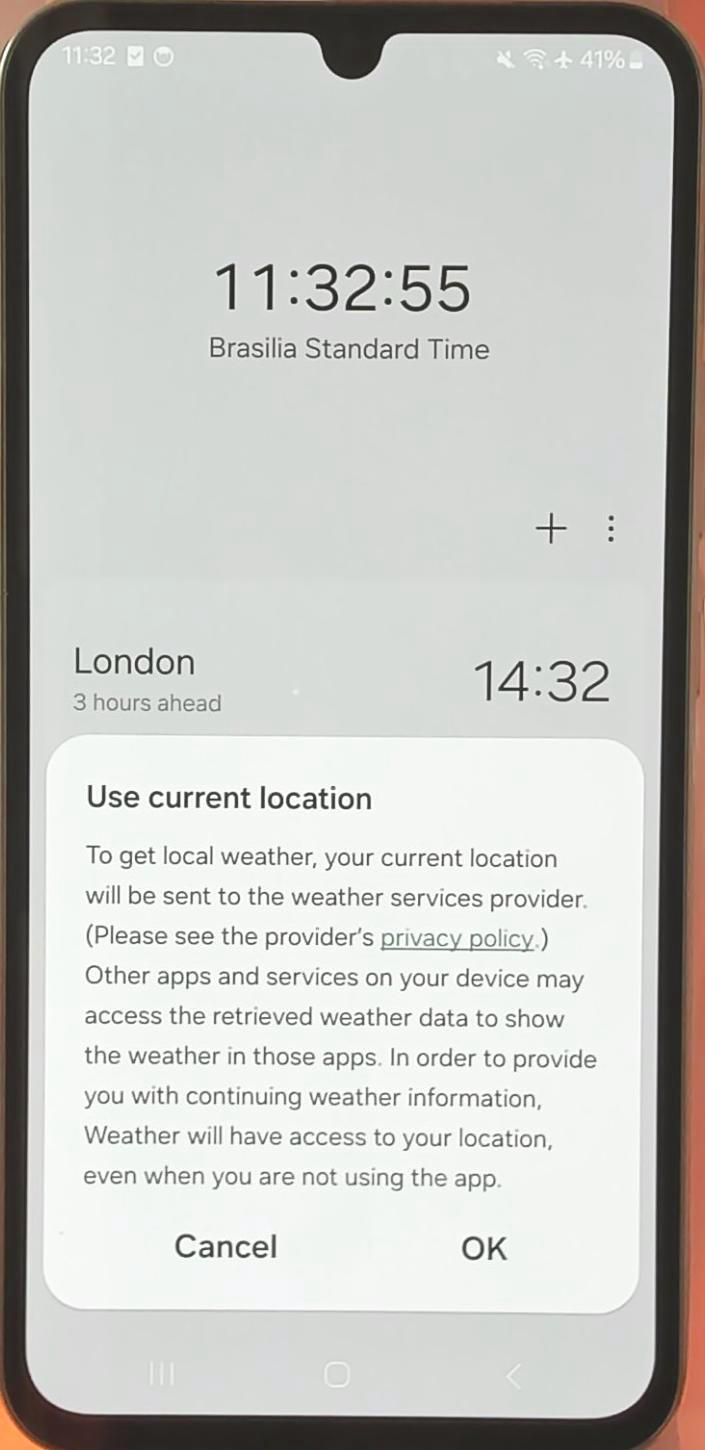CommunBotton: (168, 1216, 292, 1272), (304, 1338, 374, 1402), (448, 1218, 518, 1272), (136, 1344, 194, 1402), (526, 492, 576, 558), (490, 1338, 538, 1406)
menu: (596, 494, 624, 562)
